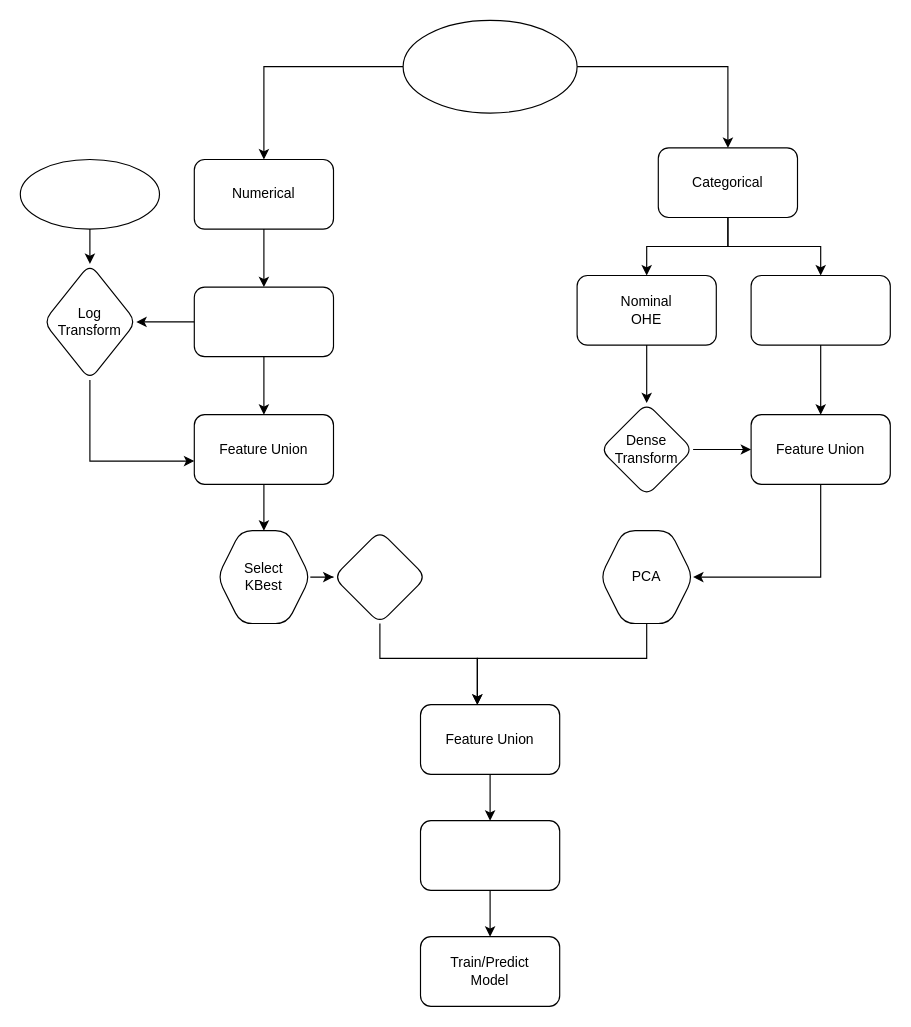
Some shapes in this 911 by 1027 pixel diagram are drawn without their labels. Here are the shapes that lost their labels. From the top down, the centre of each, then its label:
(x=489, y=66): Data
(x=89, y=193): [Total Income] [LoanAmount]
(x=263, y=321): Imputation
(x=820, y=309): Ordinal
(x=379, y=577): MinMax Scaler
(x=489, y=855): Train/Test Split
